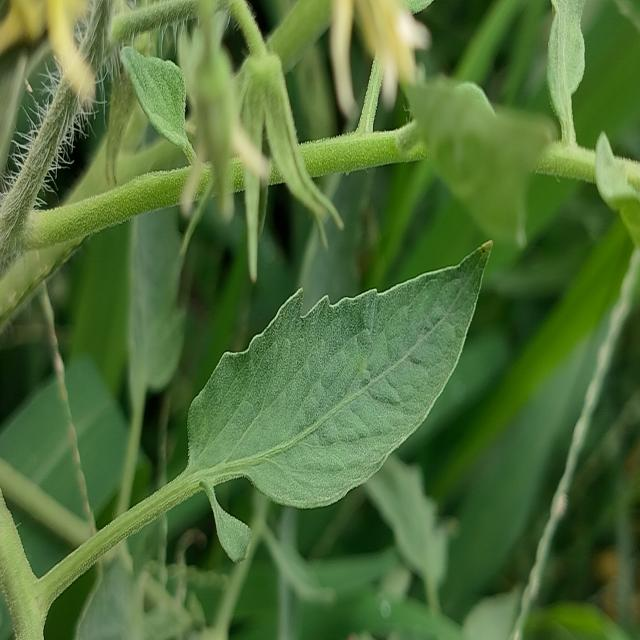tomato_healthy: (187, 243, 490, 508)
